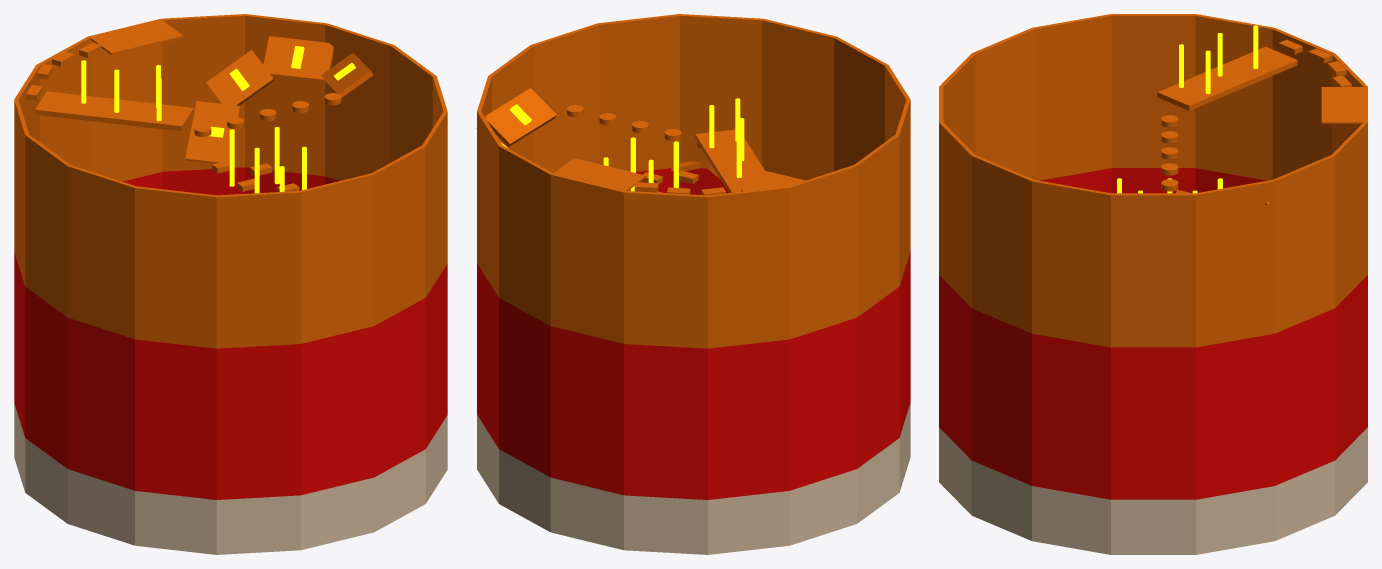
The model's file is Tawer.fbx.
3 views of the same model, side by side, from view 1: azimuth 30°, elevation 25°; view 2: azimuth 150°, elevation 25°; view 3: azimuth 270°, elevation 25° (orthographic).
Visible parts, largest first — view 1: stage_2, stage_1, start, bloks.001; view 2: stage_2, stage_1, start, bloks.001; view 3: stage_2, stage_1, start, bloks.001.
Part boxes in pixels (<box>): stage_2: <box>14,14,447,348</box>; stage_1: <box>14,167,447,499</box>; start: <box>14,403,447,554</box>; bloks.001: <box>26,36,373,193</box>; stage_2: <box>477,14,910,348</box>; stage_1: <box>477,168,910,499</box>; start: <box>477,403,910,554</box>; bloks.001: <box>476,88,775,195</box>; stage_2: <box>939,14,1367,347</box>; stage_1: <box>939,168,1367,499</box>; start: <box>939,427,1367,554</box>; bloks.001: <box>1117,25,1351,204</box>.
Size of the model in its own units: 102 by 102 by 104.
